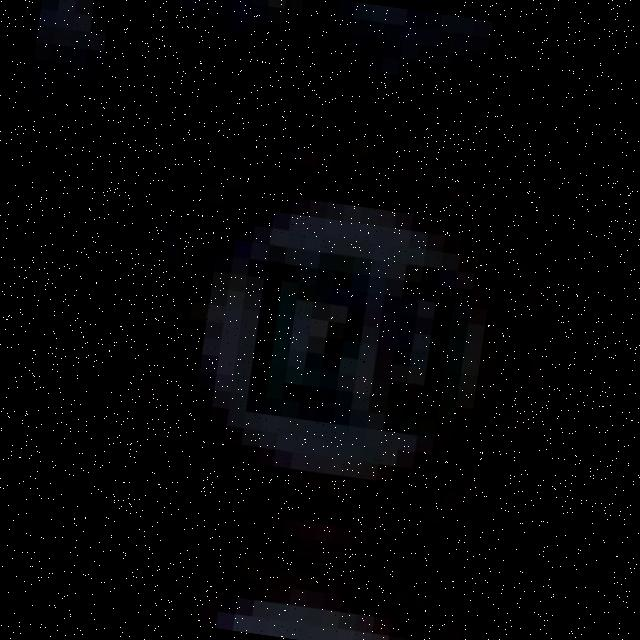Ograniczenie predkosci do 120: (111, 129, 572, 550)
